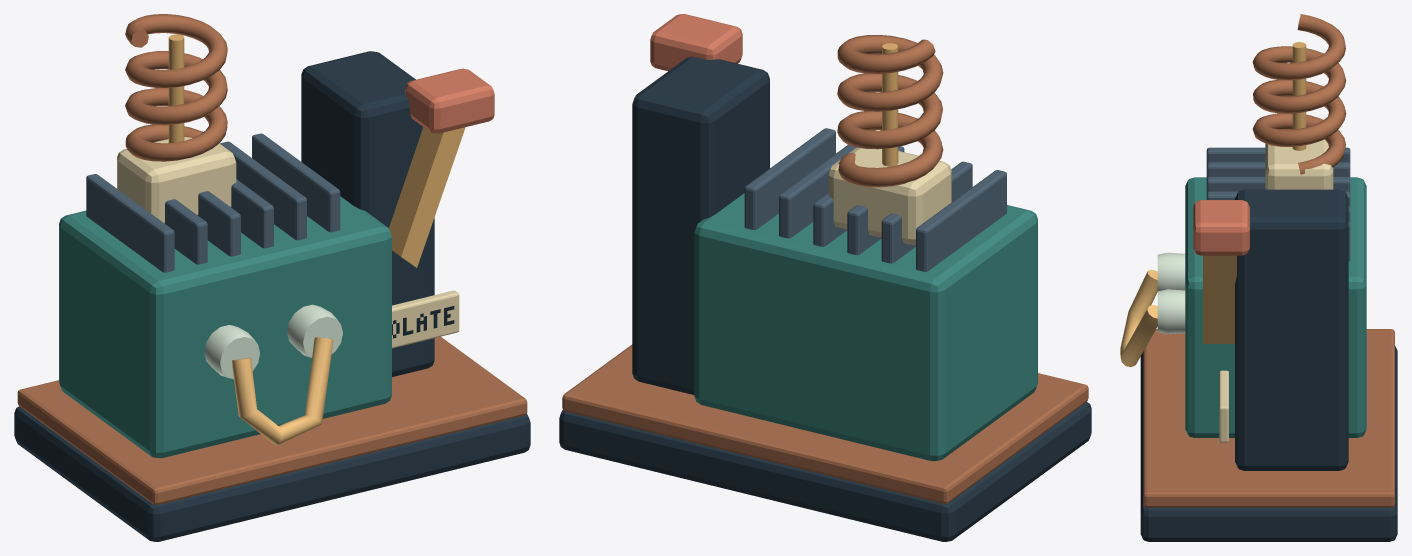
The picture shows the model from 3 angles, left to right: view 1: azimuth 30°, elevation 25°; view 2: azimuth 150°, elevation 25°; view 3: azimuth 270°, elevation 25°; orthographic projection. The views are drawn at different scales.
Visible parts, largest first — view 1: PR072 enamel and hardware; view 2: PR072 enamel and hardware; view 3: PR072 enamel and hardware.
Boxes of the visible parts, left/top/right/bottom form: PR072 enamel and hardware: left=14, top=14, right=530, bottom=541; PR072 enamel and hardware: left=559, top=14, right=1091, bottom=541; PR072 enamel and hardware: left=1120, top=14, right=1397, bottom=541.
Size of the model in its own units: 1.05 by 1.14 by 0.7268.
